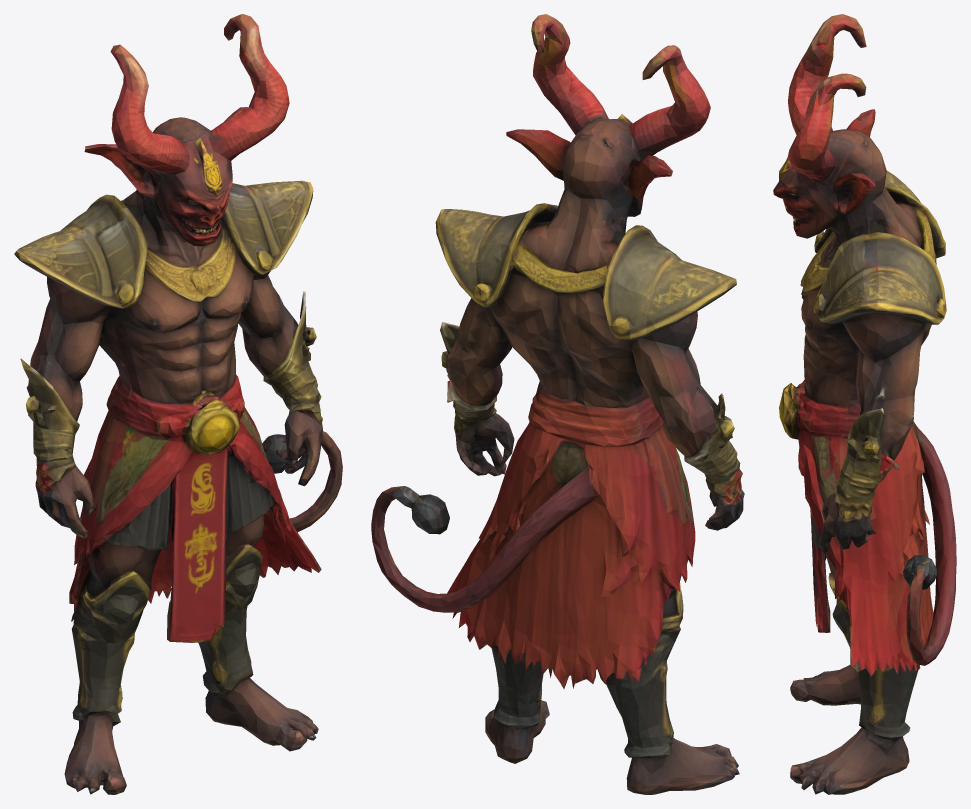
The model's file is devil.fbx.
3 renders of one model, left to right at view 1: azimuth 30°, elevation 25°; view 2: azimuth 150°, elevation 25°; view 3: azimuth 270°, elevation 25°, orthographic. The views are drawn at different scales.
Visible parts, largest first — view 1: temp; view 2: temp; view 3: temp.
Boxes of the visible parts, bbox=[...] form: temp: bbox=[14, 14, 342, 794]; temp: bbox=[371, 14, 744, 794]; temp: bbox=[773, 14, 956, 794].
Bounding box in the file's own units: 98.58 × 200 × 47.48.
Materials: 1 (1 with a texture image).
